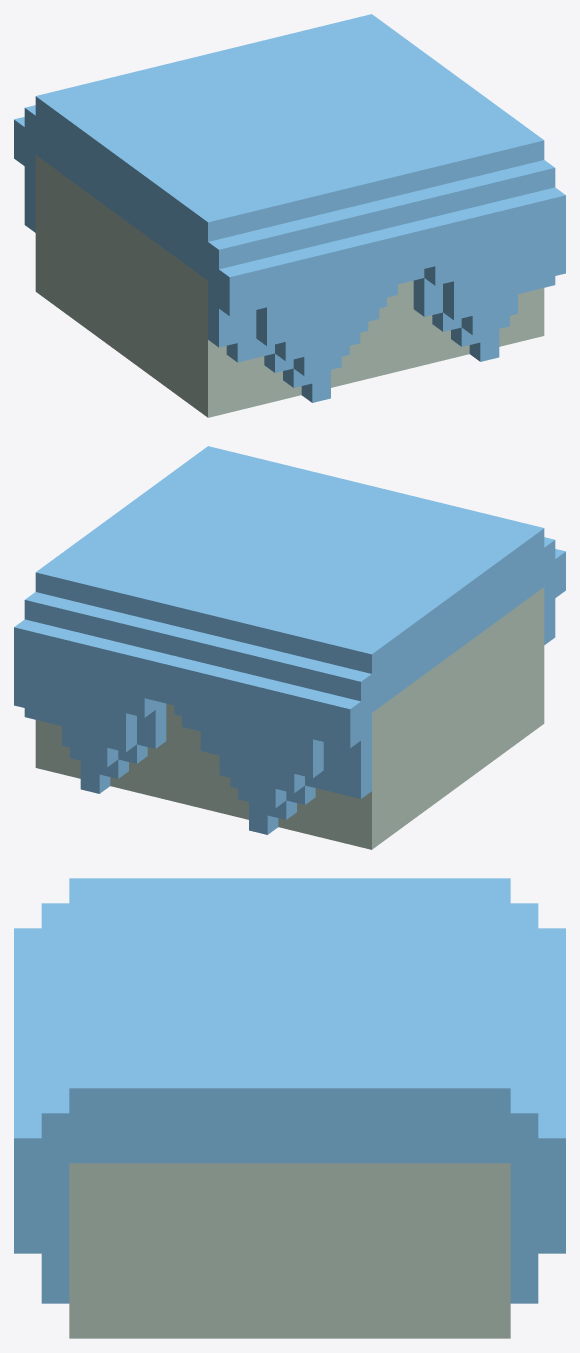
Rendered from Floors-14.obj.
The picture shows the model from 3 angles, top to bottom: view 1: azimuth 30°, elevation 25°; view 2: azimuth 150°, elevation 25°; view 3: azimuth 270°, elevation 25°; orthographic projection. The views are drawn at different scales.
Bounding box in the file's own units: 1.8 × 1 × 2.
